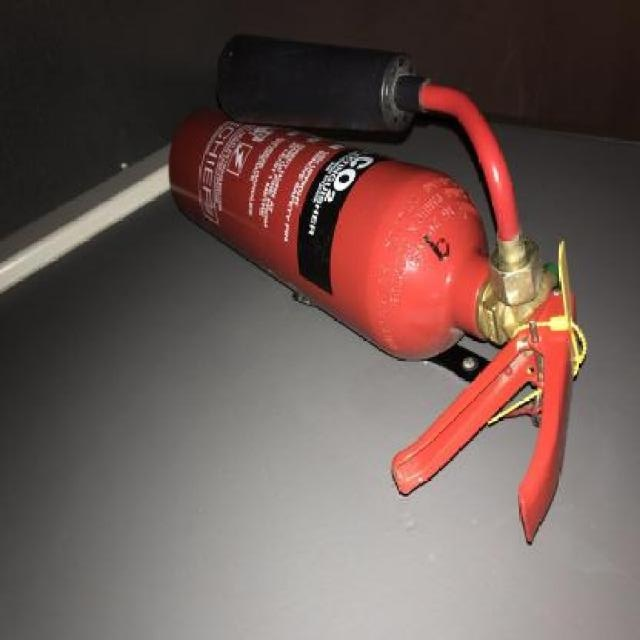fire extinguisher: (168, 34, 581, 543)
